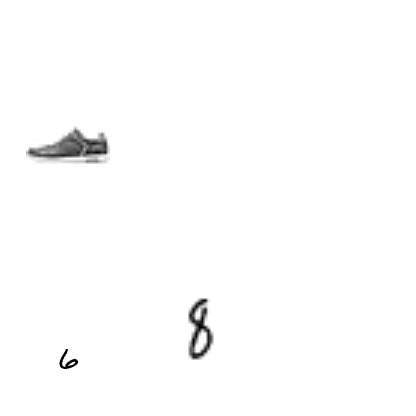6: (53, 347, 81, 375)
8: (156, 287, 240, 371)
Sneaker: (26, 103, 110, 187)
